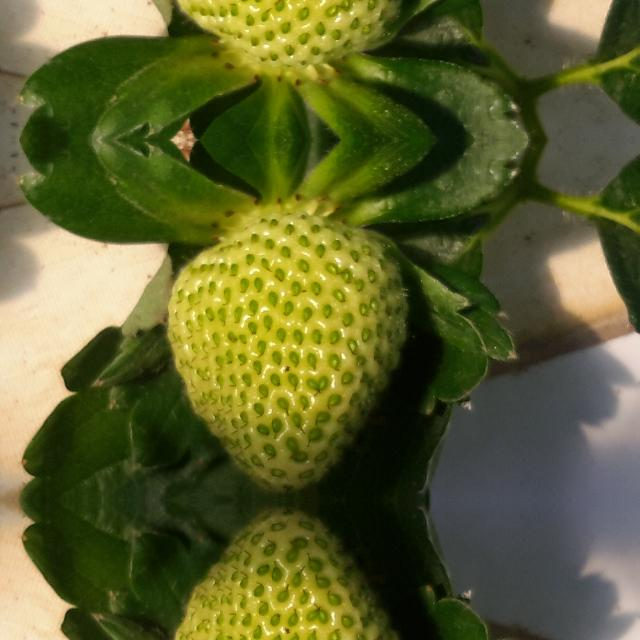Health_25: (167, 212, 407, 493), (167, 506, 407, 640), (167, 0, 407, 67)
